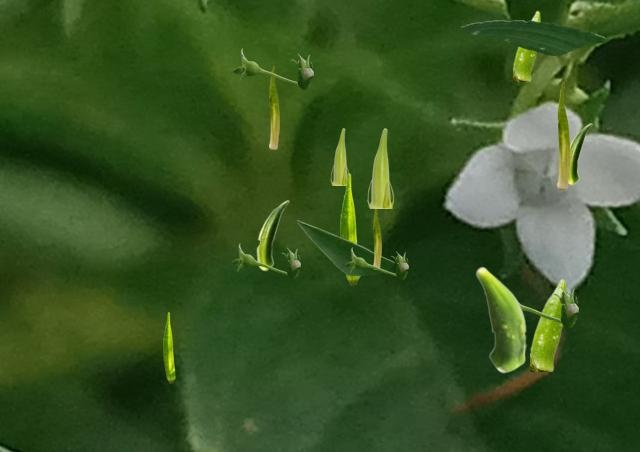okra: (475, 266, 526, 372), (530, 278, 566, 370), (256, 200, 288, 270), (340, 173, 359, 284), (367, 128, 392, 207), (513, 10, 540, 80), (569, 123, 591, 184), (557, 82, 569, 188), (330, 128, 348, 184), (163, 312, 174, 382), (269, 65, 278, 148), (373, 208, 380, 267)
